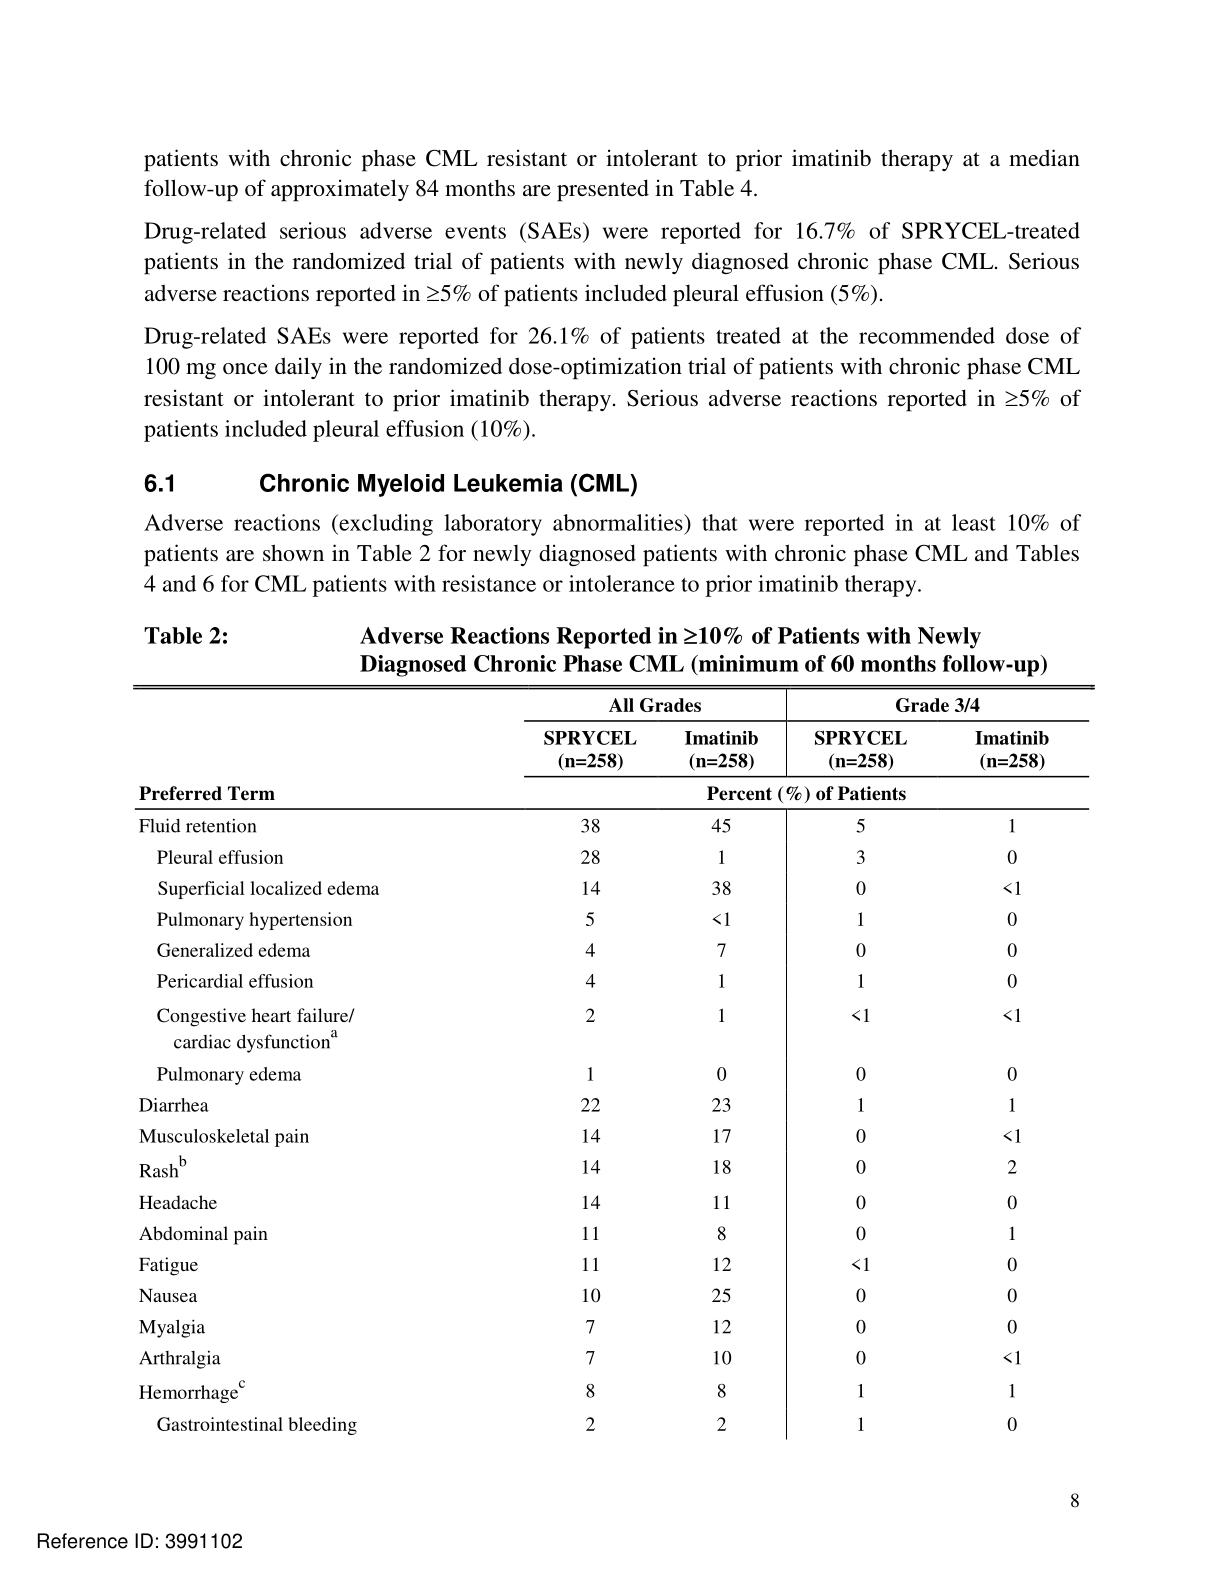partial_lined_merged_cells: (131, 683, 1095, 1440)
